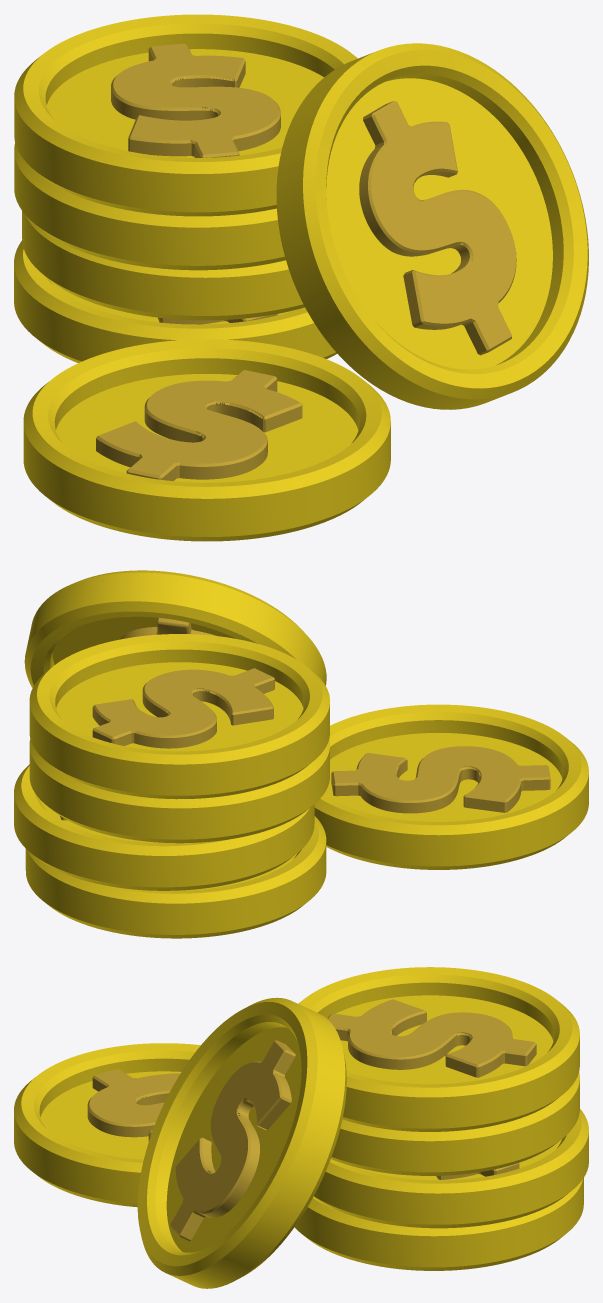
File: monedita.glb
3 views of the same model, one above another, from view 1: azimuth 30°, elevation 25°; view 2: azimuth 150°, elevation 25°; view 3: azimuth 270°, elevation 25° (orthographic). The views are drawn at different scales.
Parts seen in each view (by area): view 1: Coins_coat; view 2: Coins_coat; view 3: Coins_coat.
Part boxes in pixels (x1,y1,x2,y2): Coins_coat: (14,14,588,541); Coins_coat: (14,570,588,938); Coins_coat: (14,967,588,1288).
Size of the model in its own units: 11.44 by 5.58 by 11.81.
